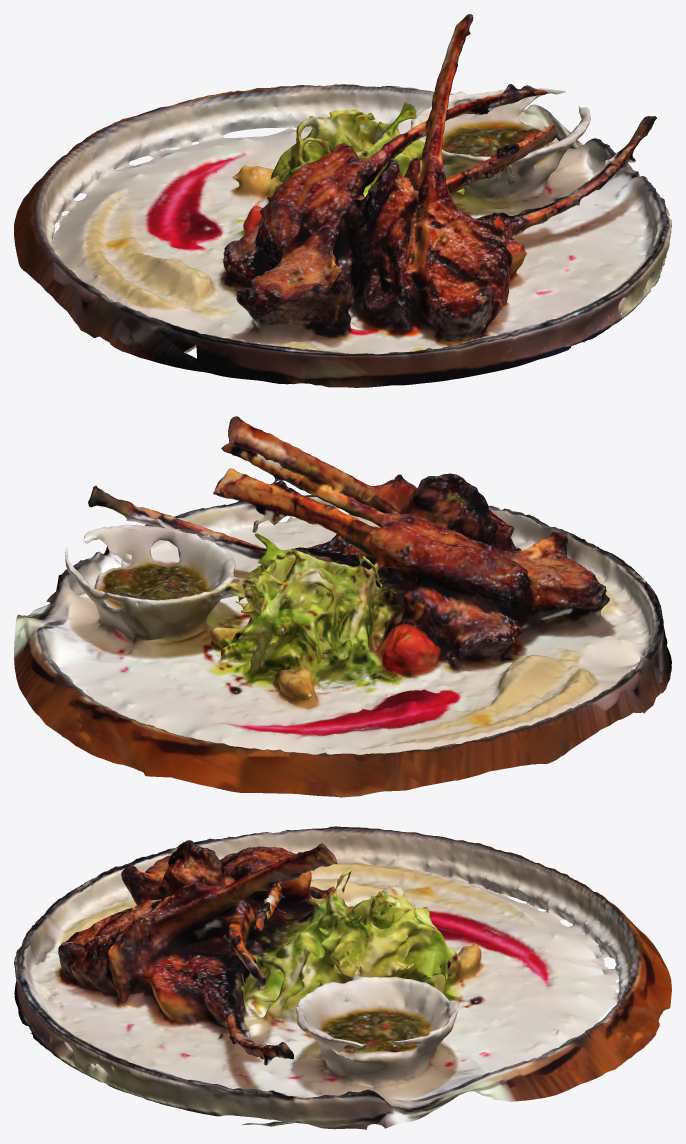
Rendered from steak-plate.glb.
3 views of the same model, one above another, from view 1: azimuth 30°, elevation 25°; view 2: azimuth 150°, elevation 25°; view 3: azimuth 270°, elevation 25° (orthographic). The views are drawn at different scales.
Visible parts, largest first — view 1: Object_2, Object_3, Object_4; view 2: Object_3, Object_2, Object_4; view 3: Object_2, Object_3, Object_4.
Part boxes in pixels (left/top/right/bottom): Object_2: left=14, top=84, right=671, bottom=385; Object_3: left=21, top=15, right=671, bottom=387; Object_4: left=15, top=14, right=669, bottom=353; Object_3: left=18, top=419, right=671, bottom=797; Object_2: left=14, top=447, right=670, bottom=796; Object_4: left=14, top=416, right=665, bottom=765; Object_2: left=14, top=827, right=671, bottom=1129; Object_3: left=14, top=826, right=671, bottom=1129; Object_4: left=39, top=828, right=627, bottom=1126.
Size of the model in its own units: 0.3142 by 0.1106 by 0.3208.
Materials: 1 (1 with a texture image).
